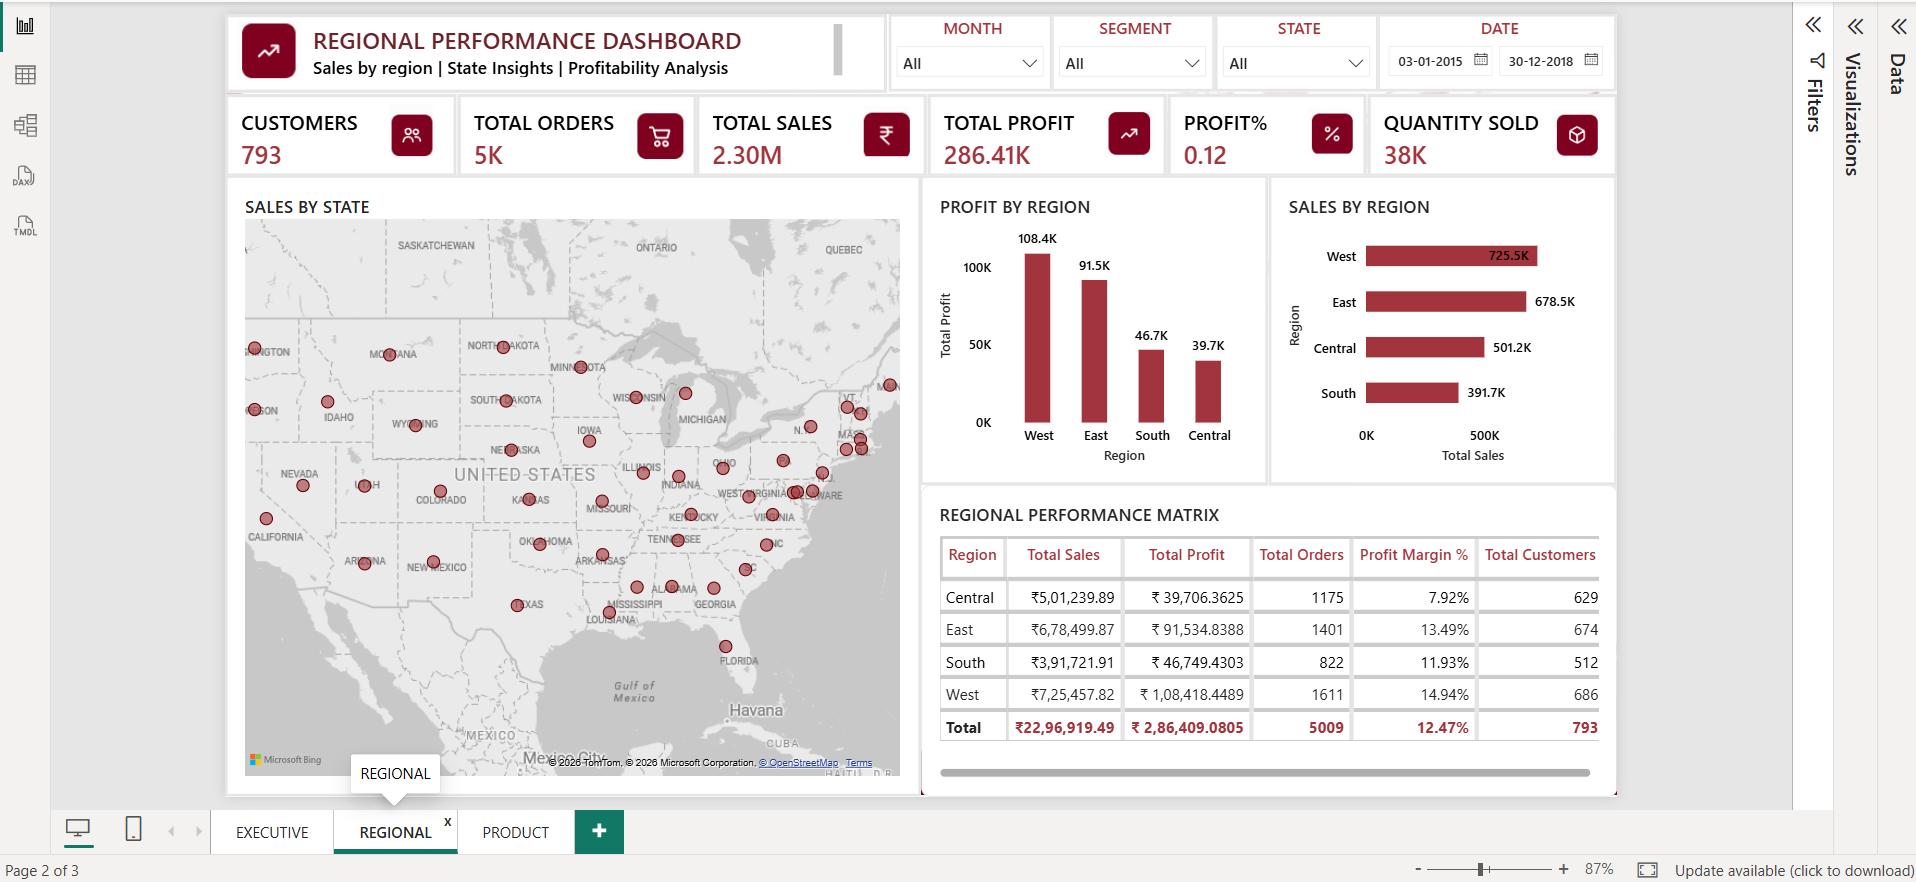

Layout of this report page (visuals, bound fields, positions):
{"tool":"powerbi","page":{"name":"REGIONAL","canvas":[1280,720],"ordinal":1},"visuals":[{"type":"cardVisual","fields":{"Data":["superstore_sales_clean.Total Sales"]},"box":[433.8,73,212.5,76.2],"z":0},{"type":"cardVisual","fields":{"Data":["superstore_sales_clean.Total Orders"]},"box":[213.8,73,220,76.2],"z":1000},{"type":"cardVisual","fields":{"Data":["superstore_sales_clean.Total Customers"]},"box":[0,73,213.8,76.2],"z":2000},{"type":"cardVisual","fields":{"Data":["superstore_sales_clean.Total Profit"]},"box":[646.2,73,220,76.2],"z":3000},{"type":"cardVisual","fields":{"Data":["superstore_sales_clean.Profit Margin %"]},"box":[866.2,73,183.8,76.2],"z":4000},{"type":"image","box":[146.2,83,50,50],"z":5000},{"type":"image","box":[375,86.8,50,50],"z":6000},{"type":"image","box":[808.8,86.8,45,46.2],"z":7000},{"type":"image","box":[587.5,83,42.5,50],"z":8000},{"type":"image","box":[995,83,41.2,50],"z":9000},{"type":"cardVisual","fields":{"Data":["superstore_sales_clean.Total Quantity"]},"box":[1050,73,230,76.2],"z":10000},{"type":"image","box":[1221.2,86.8,43.8,50],"z":11000},{"type":"slicer","title":"DATE","fields":{"Values":["superstore_sales_clean.Order Date"]},"box":[1060,0,220,71.2],"z":12000},{"type":"slicer","title":"STATE","fields":{"Values":["superstore_sales_clean.State"]},"box":[910,0,150,71.2],"z":13000},{"type":"slicer","title":"SEGMENT","fields":{"Values":["superstore_sales_clean.Segment"]},"box":[760,0,150,71.2],"z":14000},{"type":"slicer","title":"MONTH","fields":{"Values":["DimDate.Month"]},"box":[610,0,150,71.2],"z":15000},{"type":"shape","box":[0,0,608.8,72.5],"z":16000},{"type":"image","box":[11.2,0,57.5,66.2],"z":17000},{"type":"clusteredBarChart","title":"SALES BY REGION","fields":{"Y":["superstore_sales_clean.Total Sales"],"Category":["superstore_sales_clean.Region"]},"box":[960,148.8,320,285],"z":18000},{"type":"clusteredColumnChart","title":"PROFIT BY REGION","fields":{"Category":["superstore_sales_clean.Region"],"Y":["superstore_sales_clean.Total Profit"]},"box":[638.8,148.8,320,285],"z":19000},{"type":"map","title":"SALES BY STATE","fields":{"Category":["superstore_sales_clean.State"]},"box":[0,148.8,640,571.2],"z":20000},{"type":"pivotTable","title":"REGIONAL PERFORMANCE MATRIX","fields":{"Rows":["superstore_sales_clean.Region"],"Values":["superstore_sales_clean.Total Sales","superstore_sales_clean.Total Profit","superstore_sales_clean.Total Orders","superstore_sales_clean.Profit Margin %","superstore_sales_clean.Total Customers"]},"box":[640,433.8,640,286.2],"z":21000},{"type":"textbox","box":[80,8.8,487.5,48.8],"z":22000}]}

Visuals, with their boxes on the page's 1280x720 design canvas (x1, y1, x2, y2). These are canvas units, not pixel positions in the 1916x882 screenshot, which may show the page scaled, cropped or inside an application window:
cardVisual - superstore_sales_clean.Total Sales: locate(434, 73, 646, 149)
cardVisual - superstore_sales_clean.Total Orders: locate(214, 73, 434, 149)
cardVisual - superstore_sales_clean.Total Customers: locate(0, 73, 214, 149)
cardVisual - superstore_sales_clean.Total Profit: locate(646, 73, 866, 149)
cardVisual - superstore_sales_clean.Profit Margin %: locate(866, 73, 1050, 149)
image: locate(146, 83, 196, 133)
image: locate(375, 87, 425, 137)
image: locate(809, 87, 854, 133)
image: locate(588, 83, 630, 133)
image: locate(995, 83, 1036, 133)
cardVisual - superstore_sales_clean.Total Quantity: locate(1050, 73, 1280, 149)
image: locate(1221, 87, 1265, 137)
"DATE" slicer: locate(1060, 0, 1280, 71)
"STATE" slicer: locate(910, 0, 1060, 71)
"SEGMENT" slicer: locate(760, 0, 910, 71)
"MONTH" slicer: locate(610, 0, 760, 71)
shape: locate(0, 0, 609, 72)
image: locate(11, 0, 69, 66)
"SALES BY REGION" clusteredBarChart: locate(960, 149, 1280, 434)
"PROFIT BY REGION" clusteredColumnChart: locate(639, 149, 959, 434)
"SALES BY STATE" map: locate(0, 149, 640, 720)
"REGIONAL PERFORMANCE MATRIX" pivotTable: locate(640, 434, 1280, 720)
textbox: locate(80, 9, 568, 58)
